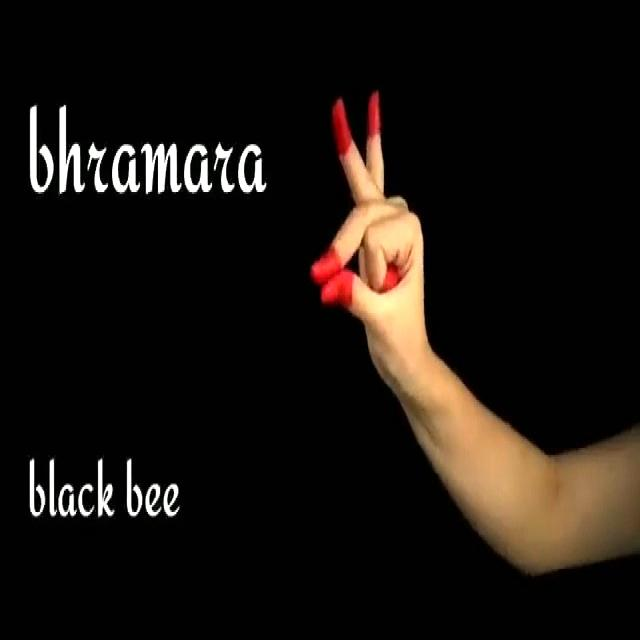Bhramara: (298, 76, 454, 377)
text: (22, 90, 274, 214), (22, 437, 187, 539)
